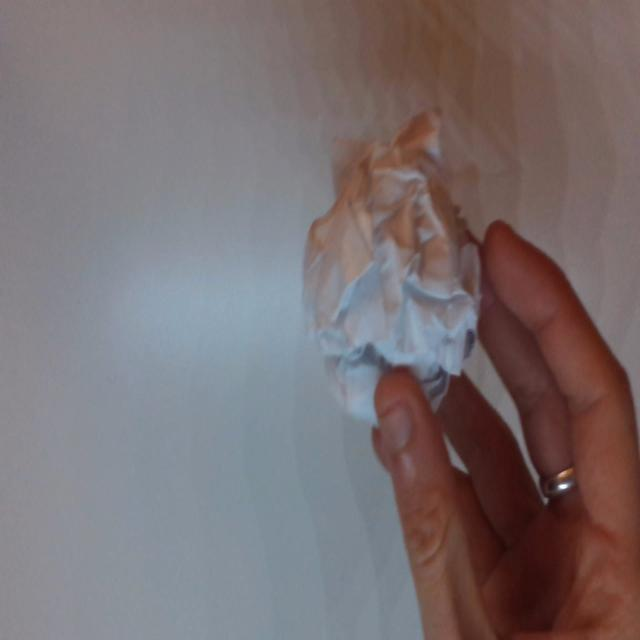Paper: (303, 119, 486, 432)
